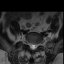CCS_normal: (32, 41, 34, 51)
LFS_normal: (37, 41, 39, 48)
LLS_normal: (34, 42, 36, 50)
RFS_normal: (27, 40, 30, 48)
RLS_normal: (29, 41, 32, 50)
